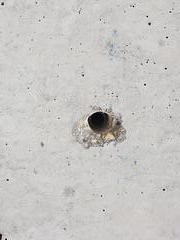Spalling: (72, 106, 127, 150)
